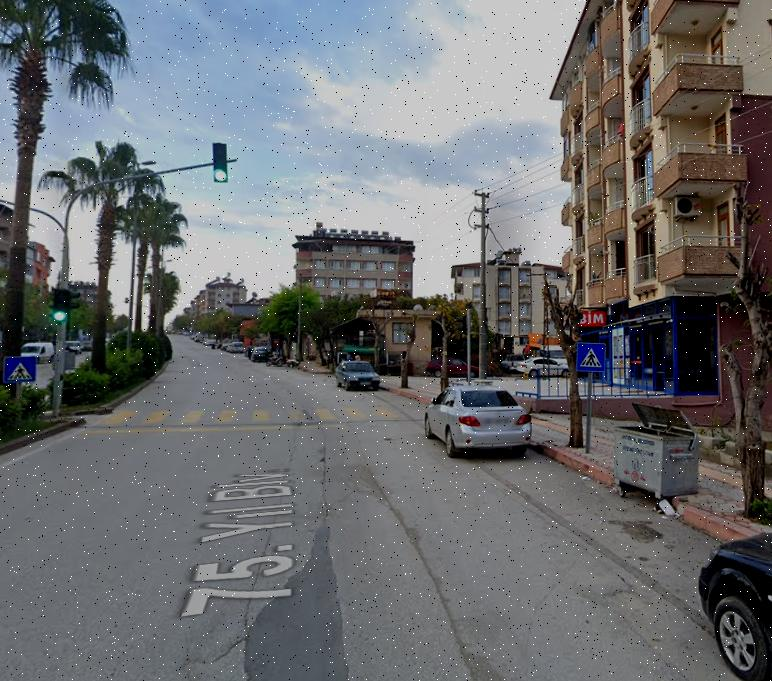greenlight: (52, 287, 70, 327), (214, 141, 228, 183)
